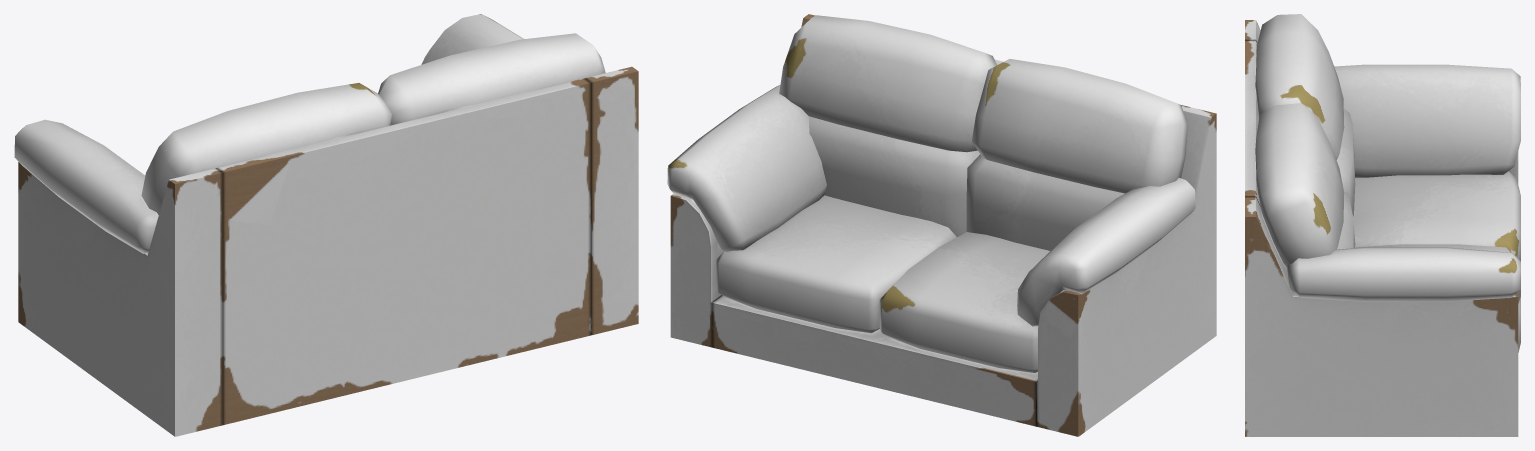
Rendered from Pfb_Sofa__7.fbx.
The picture shows the model from 3 angles, left to right: view 1: azimuth 30°, elevation 25°; view 2: azimuth 150°, elevation 25°; view 3: azimuth 270°, elevation 25°; orthographic projection. The views are drawn at different scales.
Visible parts, largest first — view 1: MAT_Sofa_Gray 1; view 2: MAT_Sofa_Gray 1; view 3: MAT_Sofa_Gray 1.
Part boxes in pixels (bbox=[...]): MAT_Sofa_Gray 1: bbox=[14, 14, 638, 436]; MAT_Sofa_Gray 1: bbox=[667, 14, 1216, 436]; MAT_Sofa_Gray 1: bbox=[1245, 14, 1520, 436].
Size of the model in its own units: 2.15 by 1.2 by 1.22.
Materials: 1 (1 with a texture image).
